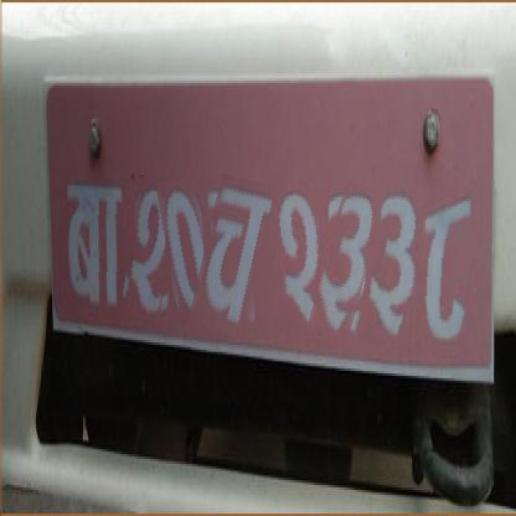0: (161, 177, 212, 325)
2: (274, 182, 329, 336), (125, 175, 175, 320)
3: (363, 183, 423, 351), (315, 182, 378, 339)
8: (417, 185, 475, 351)
ba: (63, 171, 126, 316)
cha: (196, 177, 274, 337)
